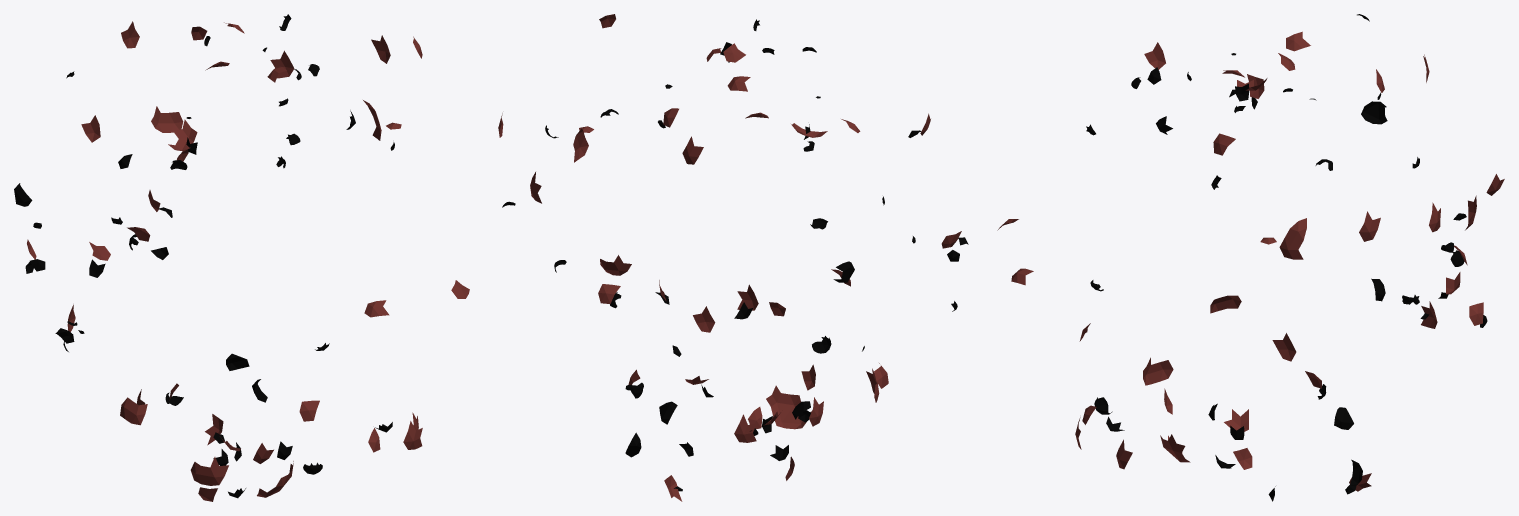
The model's file is explode.f0019.glb.
3 views of the same model, side by side, from view 1: azimuth 30°, elevation 25°; view 2: azimuth 150°, elevation 25°; view 3: azimuth 270°, elevation 25° (orthographic). The views are drawn at different scales.
Parts seen in each view (by area): view 1: Body.001; view 2: Body.001; view 3: Body.001.
Boxes of the visible parts, x1,y1,x2,y2 form: Body.001: (14, 14, 469, 501); Body.001: (498, 14, 968, 501); Body.001: (997, 14, 1504, 501).
Bounding box in the file's own units: 14.52 × 14.92 × 15.02.
Materials: 1 (1 with a texture image).
